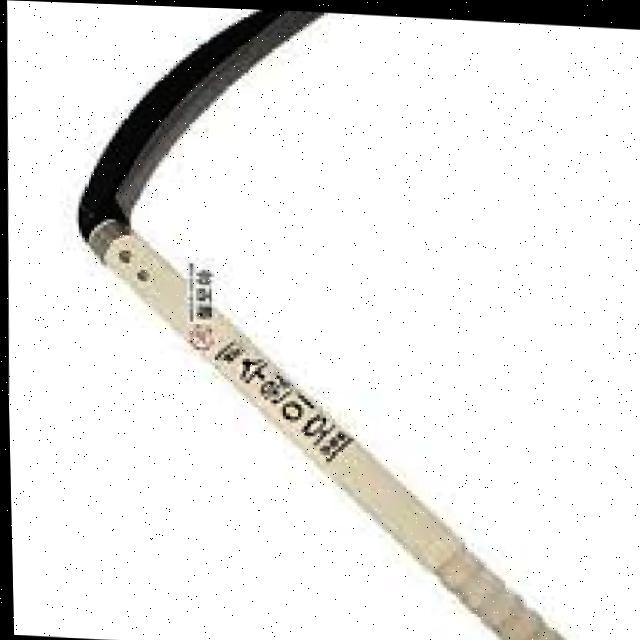sickle: (25, 1, 610, 640)
